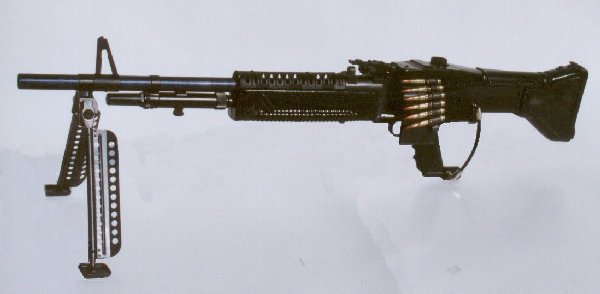rifle: (8, 11, 588, 279)
